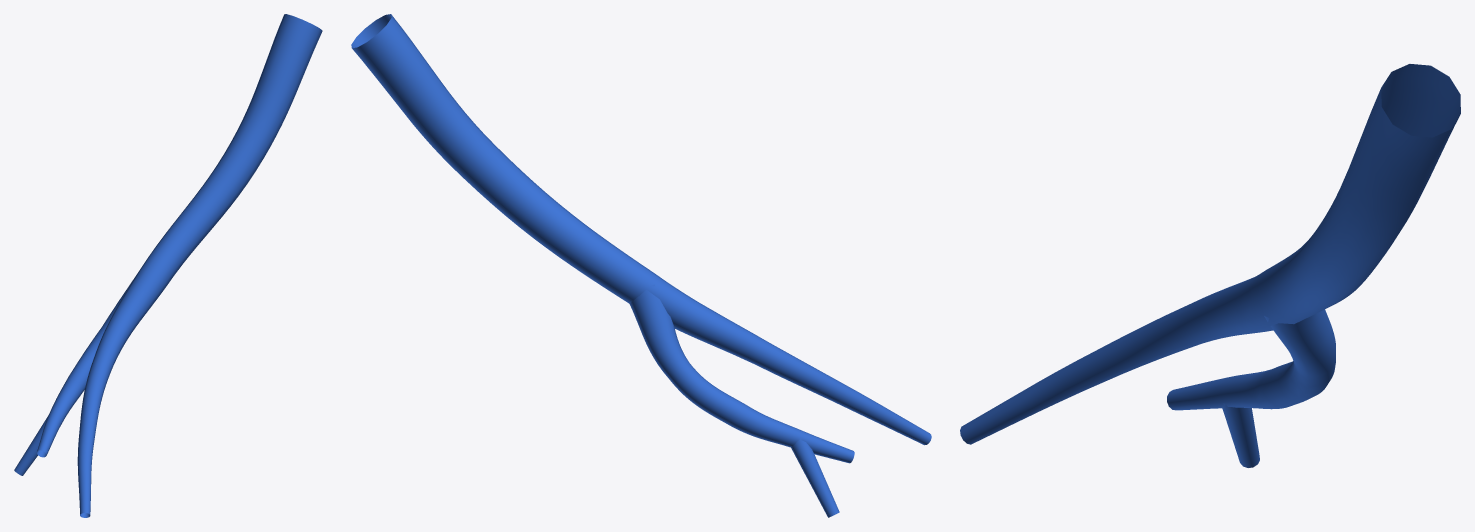
The model's file is circulatorio-lateral-basal-segmental-artery-of-right-lung.glb.
The picture shows the model from 3 angles, left to right: view 1: azimuth 30°, elevation 25°; view 2: azimuth 150°, elevation 25°; view 3: azimuth 270°, elevation 25°; orthographic projection. The views are drawn at different scales.
Parts seen in each view (by area): view 1: Lateral basal segmental artery of right lung; view 2: Lateral basal segmental artery of right lung; view 3: Lateral basal segmental artery of right lung.
Part boxes in pixels (x1,y1,x2,y2): Lateral basal segmental artery of right lung: (14, 14, 322, 517); Lateral basal segmental artery of right lung: (351, 14, 931, 517); Lateral basal segmental artery of right lung: (960, 64, 1460, 467).
Bounding box in the file's own units: 0.0769 × 0.0742 × 0.0476.
